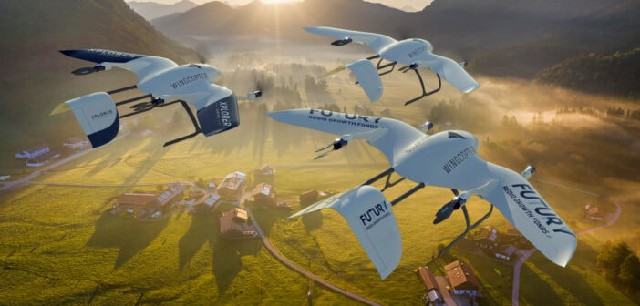maybay_khongnguoilai: (264, 106, 577, 267), (62, 47, 241, 142), (303, 24, 481, 100)
